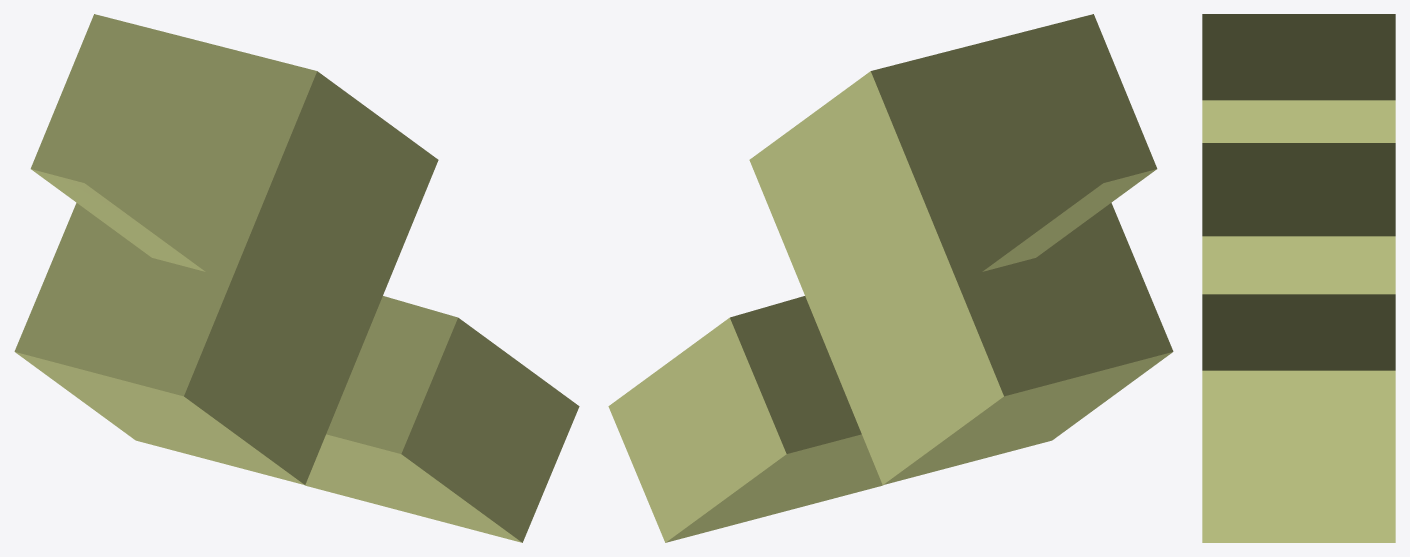
3 views of the same model, side by side, from view 1: azimuth 30°, elevation 25°; view 2: azimuth 150°, elevation 25°; view 3: azimuth 270°, elevation 25° (orthographic). The views are drawn at different scales.
Visible parts, largest first — view 1: 0_1_0_0_1_0_3_0_0_0; view 2: 0_1_0_0_1_0_3_0_0_0; view 3: 0_1_0_0_1_0_3_0_0_0.
Part boxes in pixels (x1=…): 0_1_0_0_1_0_3_0_0_0: x1=14, y1=14, x2=579, y2=542; 0_1_0_0_1_0_3_0_0_0: x1=608, y1=14, x2=1173, y2=542; 0_1_0_0_1_0_3_0_0_0: x1=1202, y1=14, x2=1395, y2=542.
Size of the model in its own units: 12.67 by 14.05 by 6.
